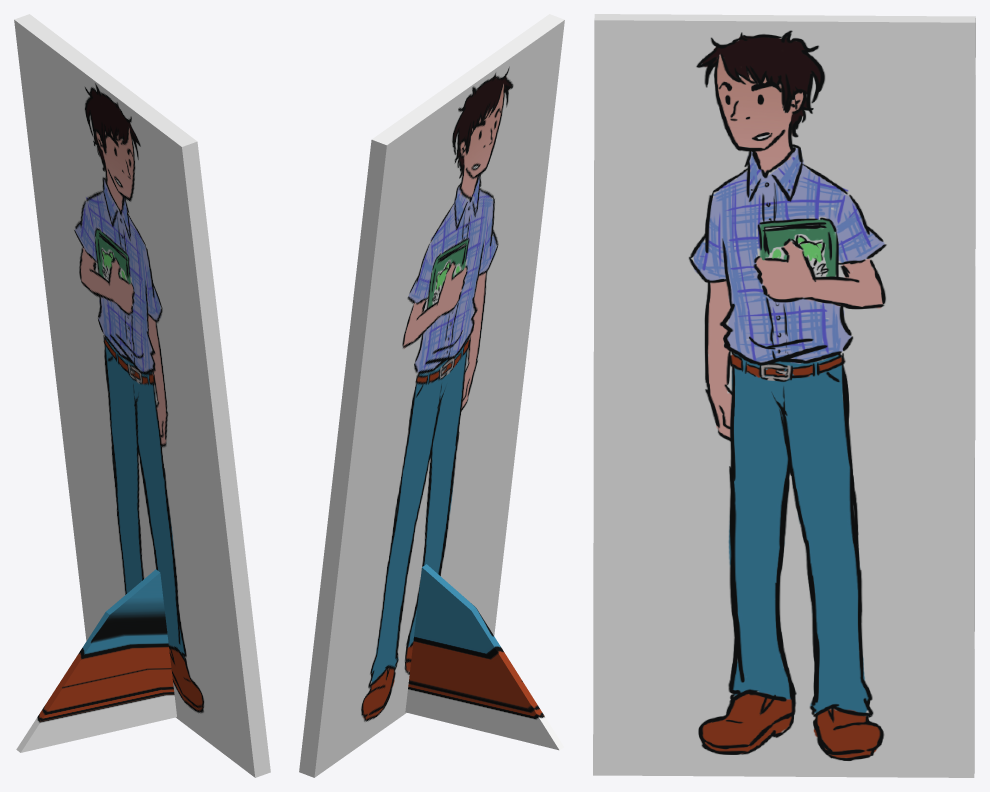
File: book guy.fbx
3 views of the same model, side by side, from view 1: azimuth 30°, elevation 25°; view 2: azimuth 150°, elevation 25°; view 3: azimuth 270°, elevation 25° (orthographic). The views are drawn at different scales.
Parts seen in each view (by area): view 1: Cube; view 2: Cube; view 3: Cube.
Boxes of the visible parts, <box> form: Cube: <box>14,14,270,777</box>; Cube: <box>299,14,564,777</box>; Cube: <box>593,14,975,777</box>.
Bounding box in the file's own units: 1.16 × 4.16 × 2.01.
